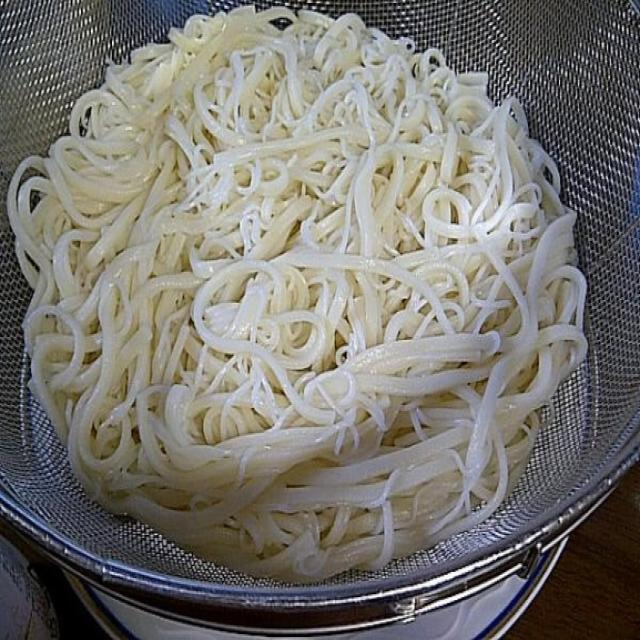面条主食: (8, 11, 609, 588)
